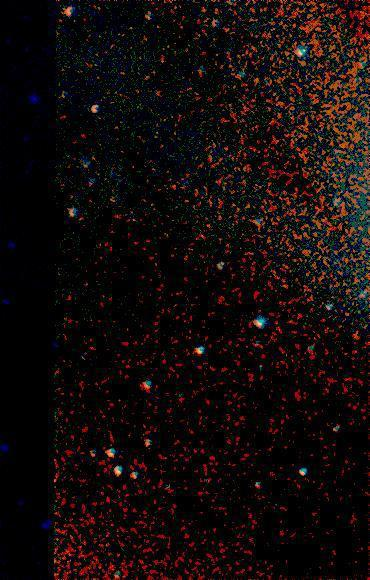star: (239, 66, 269, 96)
